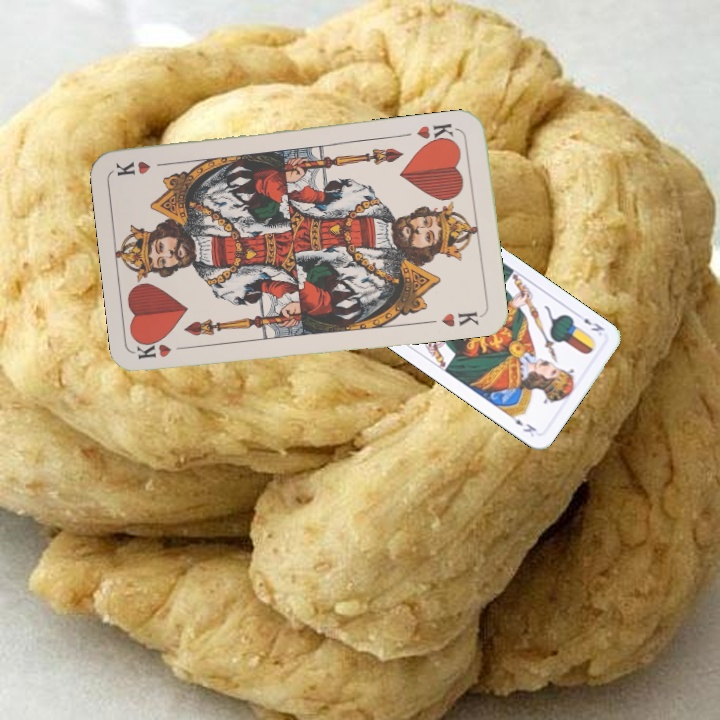EK: (580, 314, 607, 334)
HK: (134, 338, 194, 361), (413, 119, 457, 148)
